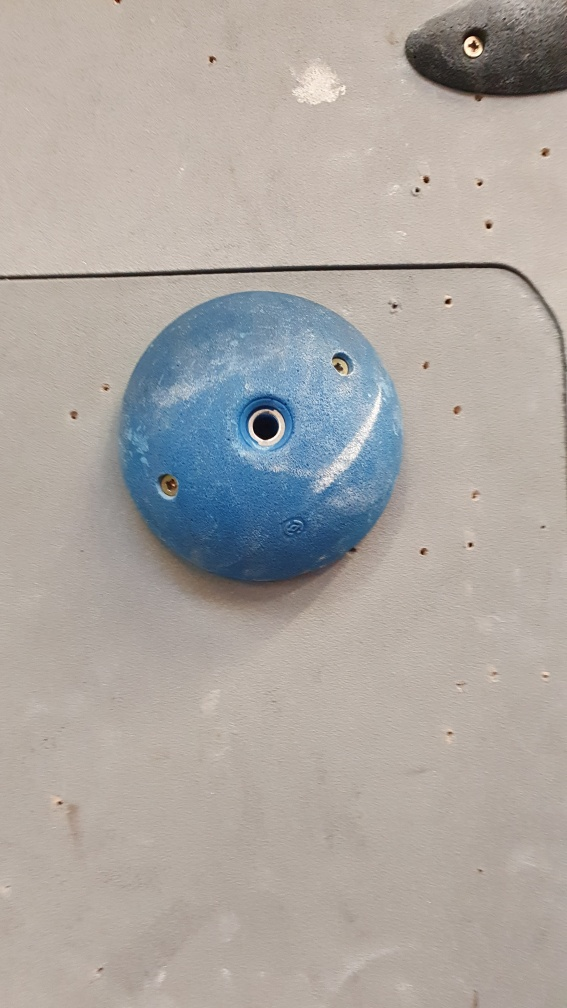Sloper: (115, 289, 409, 591)
